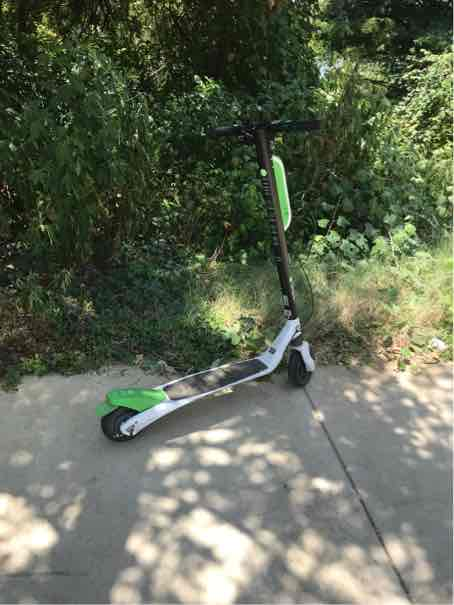scooter: (90, 111, 326, 452)
